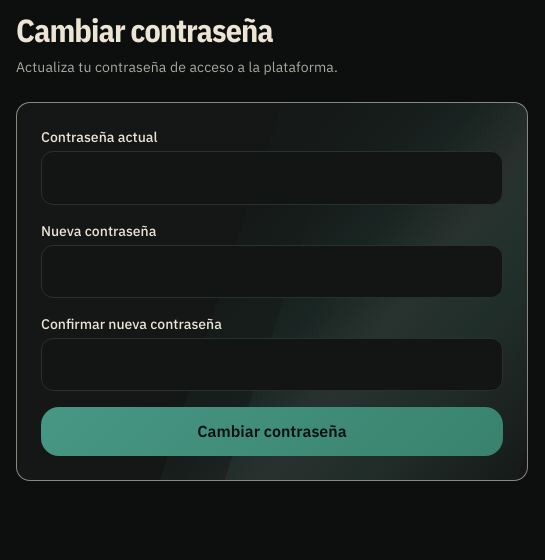
Scenario: ChangePasswordPage › shows mismatch error when passwords do not match
Type "oldpass123" into the password field labelled "Contraseña actual" at (272, 178), box [41,152,503,205]
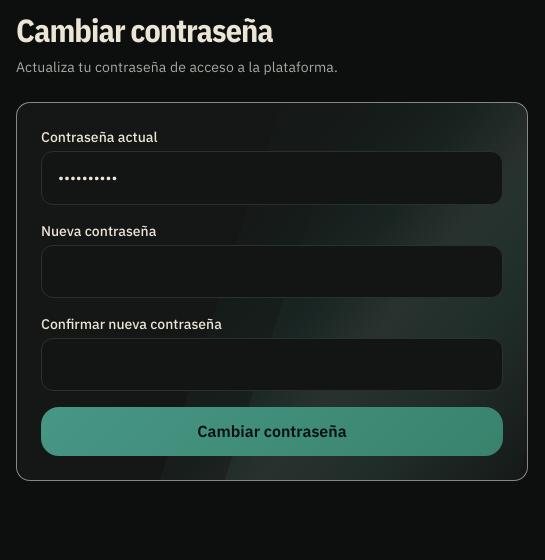
Type "newpass123" into the password field labelled "Nueva contraseña" at (272, 271), box [41,245,503,298]
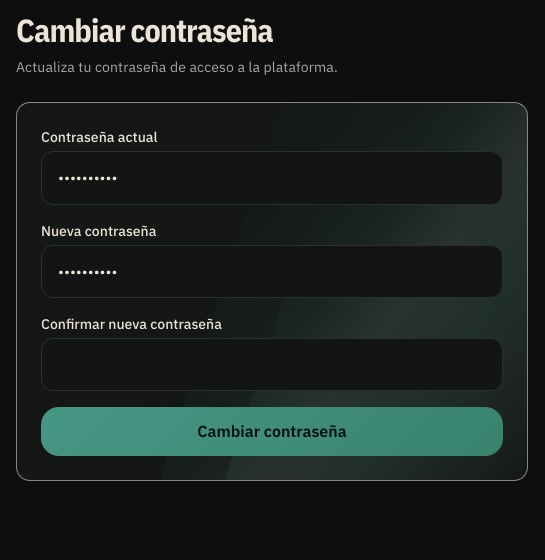
Type "different" into the password field labelled "Confirmar nueva contraseña" at (272, 365), box [41,338,503,391]
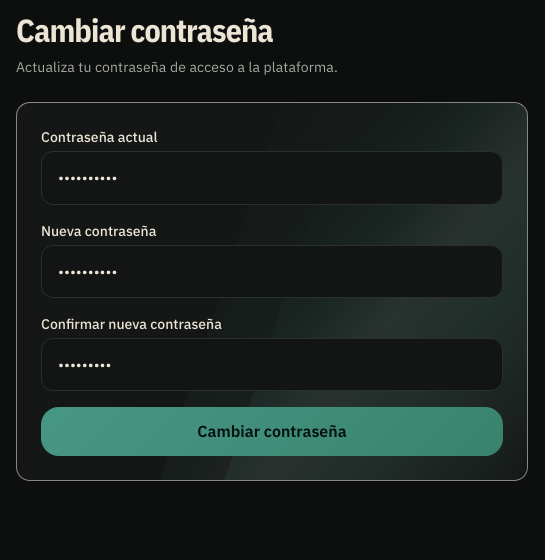
Click the button "Cambiar contraseña" at (272, 432), box [41,407,503,456]
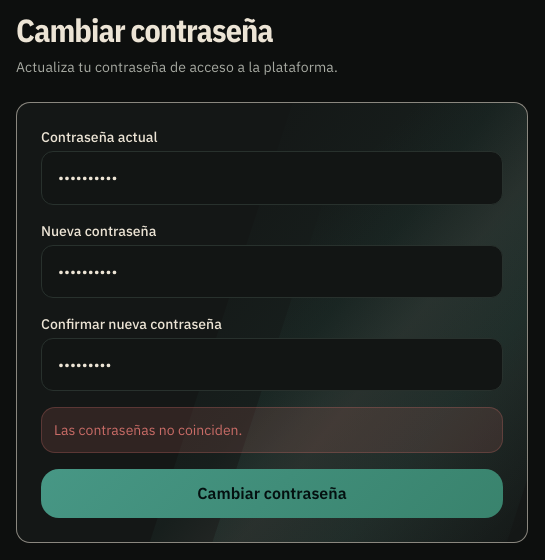
Expected: the text "Las contraseñas no coinciden." is shown, [41,407,503,453]
